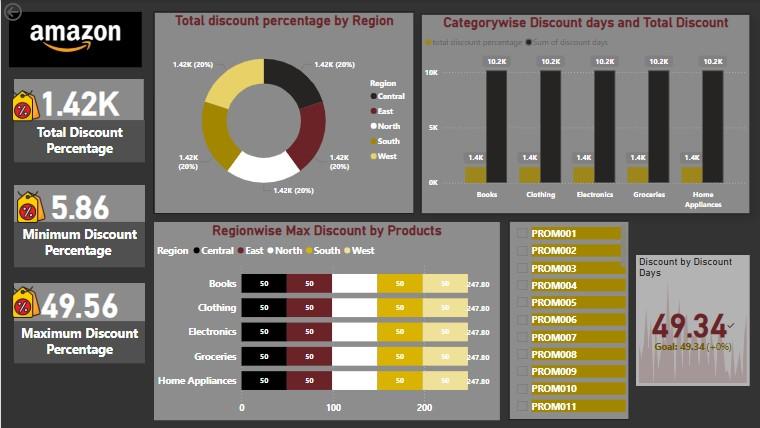

The page's visual inventory and layout, read from the dashboard file:
{"tool":"powerbi","page":{"name":"Promotions","canvas":[1280,720],"ordinal":2},"visuals":[{"type":"image","box":[8.4,0,233.5,132.7],"z":0},{"type":"card","fields":{"Values":["promotional_activities_data.total discount percentage"]},"box":[21.8,132.7,218.4,68.9],"z":1000},{"type":"textbox","box":[21.8,201.6,220.1,70.6],"z":2000},{"type":"card","fields":{"Values":["promotional_activities_data.Min Discount"]},"box":[21.8,310.8,220.1,62.2],"z":3000},{"type":"textbox","box":[21.8,372.9,220.1,75.6],"z":4000},{"type":"image","box":[8.4,132.7,65.5,90.7],"z":5000},{"type":"image","box":[16.8,307.4,67.2,80.6],"z":6000},{"type":"card","fields":{"Values":["promotional_activities_data.Max Discount"]},"box":[21.8,475.4,220.1,63.8],"z":7000},{"type":"textbox","box":[21.8,539.2,220.1,70.6],"z":8000},{"type":"image","box":[8.4,467,67.2,80.6],"z":9000},{"type":"donutChart","title":"Total discount percentage by Region","fields":{"Category":["customer_demographics_data.Region"],"Y":["promotional_activities_data.total discount percentage"]},"box":[257,20.2,436.7,339.3],"z":10000},{"type":"actionButton","box":[0,0,100,40],"z":11000},{"type":"clusteredColumnChart","title":" Categorywise Discount days and Total Discount","fields":{"Category":["retail_sales_transactions_data.Product Category"],"Y":["promotional_activities_data.total discount percentage","Sum(promotional_activities_data.discount days)"]},"box":[705.5,23.5,552.7,336],"z":12000},{"type":"slicer","fields":{"Values":["promotional_activities_data.Promotion ID"]},"box":[853.3,371.2,201.6,334.3],"z":13000},{"type":"kpi","title":"Discount by Discount Days","fields":{"Indicator":["promotional_activities_data.total discount percentage"],"TrendLine":["promotional_activities_data.discount days"],"Goal":["promotional_activities_data.Max Discount"]},"box":[1066.7,428.3,191.5,220.1],"z":14000},{"type":"barChart","title":"Regionwise Max Discount by Products","fields":{"Category":["retail_sales_transactions_data.Product Category"],"Y":["promotional_activities_data.Max Discount"],"Series":["retail_sales_transactions_data.Region"]},"box":[257,372.9,581.2,332.6],"z":15000}]}

Visuals, with their boxes in screenshot pixels (x1, y1, x2, y2), scaled from the page's 1280x720 canvas onto the 760x428 screenshot:
image: [5, 0, 144, 79]
card - promotional_activities_data.total discount percentage: [13, 79, 143, 120]
textbox: [13, 120, 144, 162]
card - promotional_activities_data.Min Discount: [13, 185, 144, 222]
textbox: [13, 222, 144, 267]
image: [5, 79, 44, 133]
image: [10, 183, 50, 231]
card - promotional_activities_data.Max Discount: [13, 283, 144, 321]
textbox: [13, 321, 144, 362]
image: [5, 278, 45, 326]
"Total discount percentage by Region" donutChart: [153, 12, 412, 214]
actionButton: [0, 0, 59, 24]
" Categorywise Discount days and Total Discount" clusteredColumnChart: [419, 14, 747, 214]
slicer - promotional_activities_data.Promotion ID: [507, 221, 626, 419]
"Discount by Discount Days" kpi: [633, 255, 747, 385]
"Regionwise Max Discount by Products" barChart: [153, 222, 498, 419]
